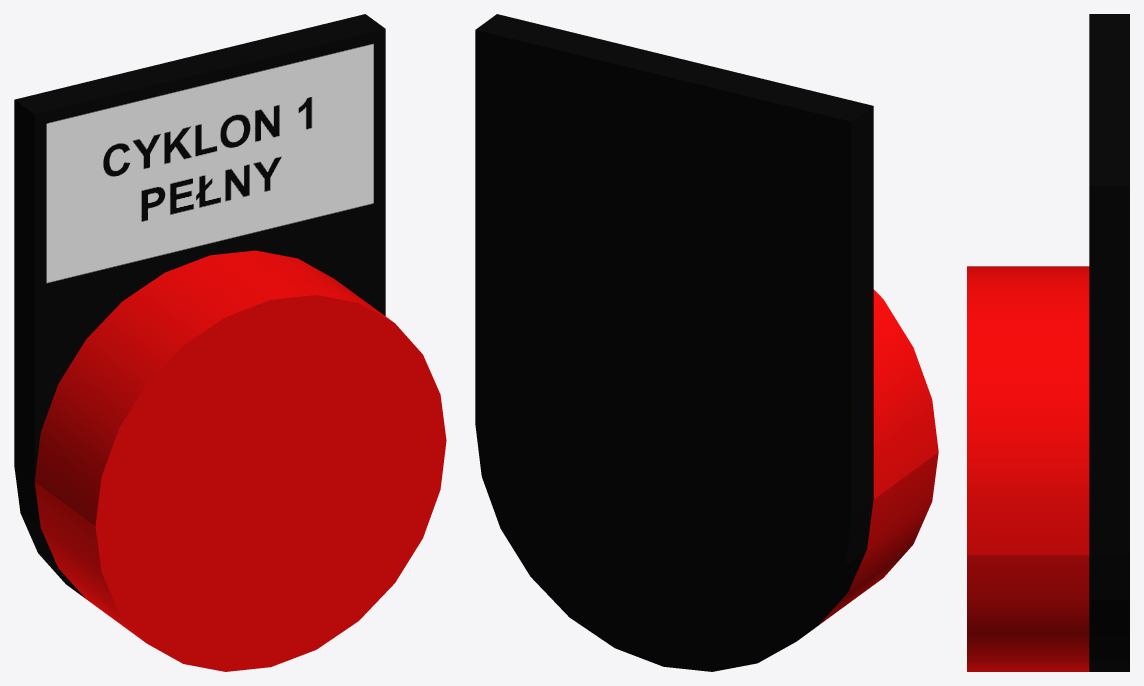
Rendered from cyklon1pełny.fbx.
3 renders of one model, left to right at view 1: azimuth 30°, elevation 25°; view 2: azimuth 150°, elevation 25°; view 3: azimuth 270°, elevation 25°, orthographic. The views are drawn at different scales.
Parts seen in each view (by area): view 1: Model; view 2: Model; view 3: Model.
Part boxes in pixels (x1,y1,x2,y2): Model: (14,14,446,671); Model: (475,14,938,671); Model: (967,14,1129,671).
Size of the model in its own units: 0.1 by 0.15 by 0.04.
